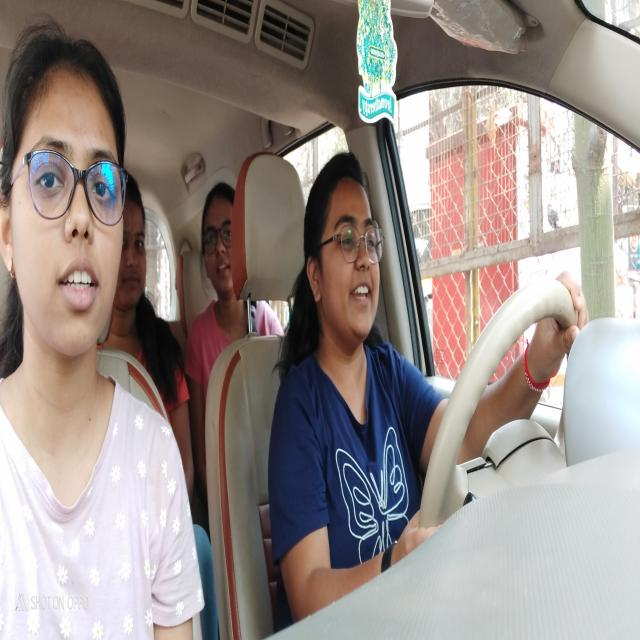person: (2, 25, 126, 361), (301, 147, 387, 356), (202, 171, 242, 303), (120, 172, 150, 318)
